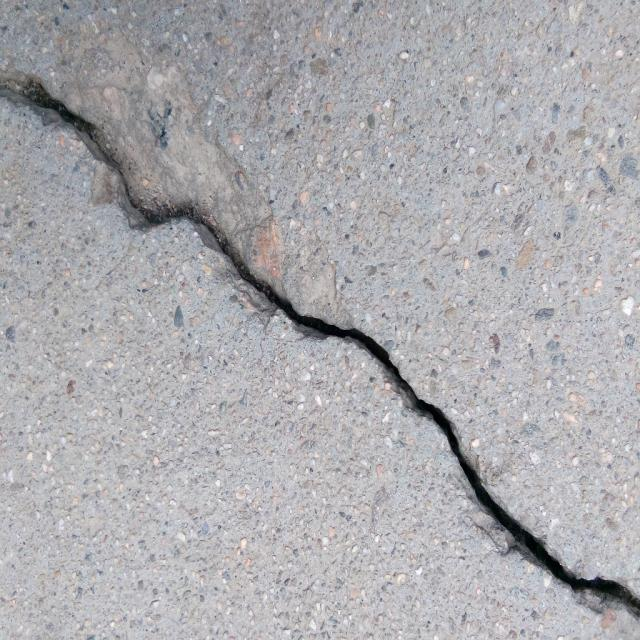cracks: (0, 9, 640, 611)
